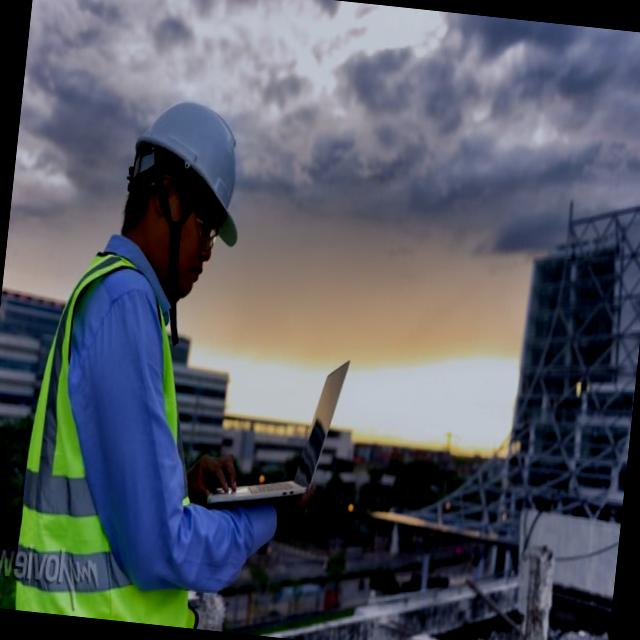goggles: (149, 179, 224, 248)
helmet: (115, 79, 262, 247)
vest: (0, 241, 234, 629)
